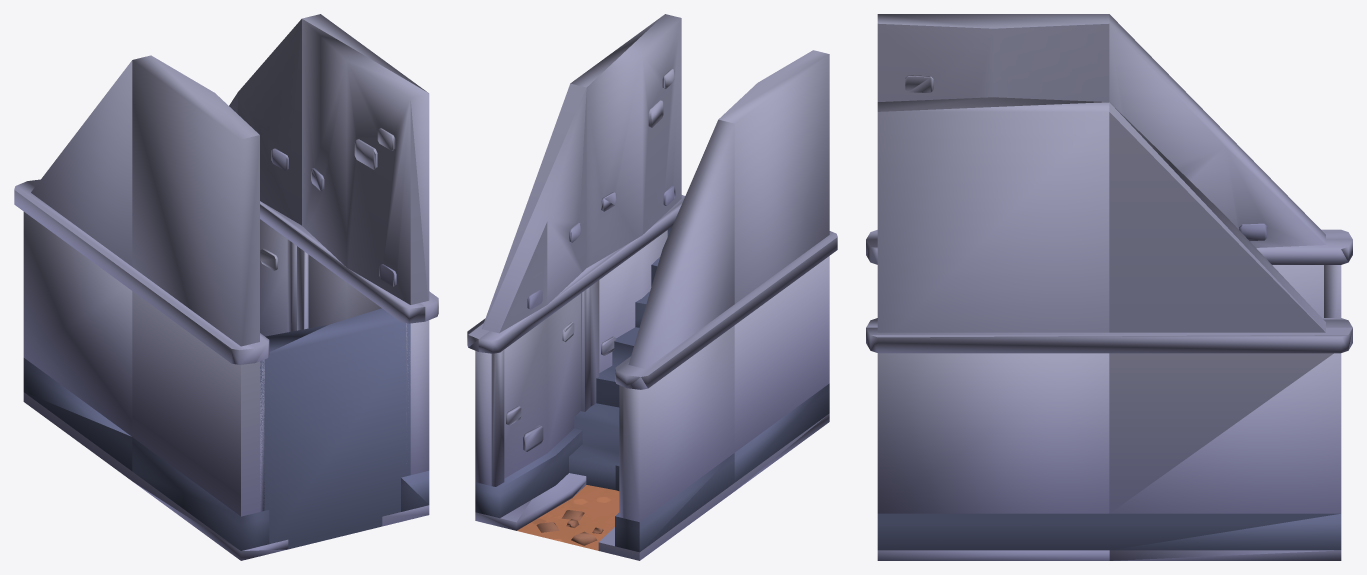
The model's file is stairs.fbx.
3 views of the same model, side by side, from view 1: azimuth 30°, elevation 25°; view 2: azimuth 150°, elevation 25°; view 3: azimuth 270°, elevation 25° (orthographic). The views are drawn at different scales.
Visible parts, largest first — view 1: stairs; view 2: stairs; view 3: stairs.
Boxes of the visible parts, x1,y1,x2,y2 form: stairs: (14,14,438,560); stairs: (467,14,837,560); stairs: (866,14,1352,560).
Bounding box in the file's own units: 440 × 855 × 840.
